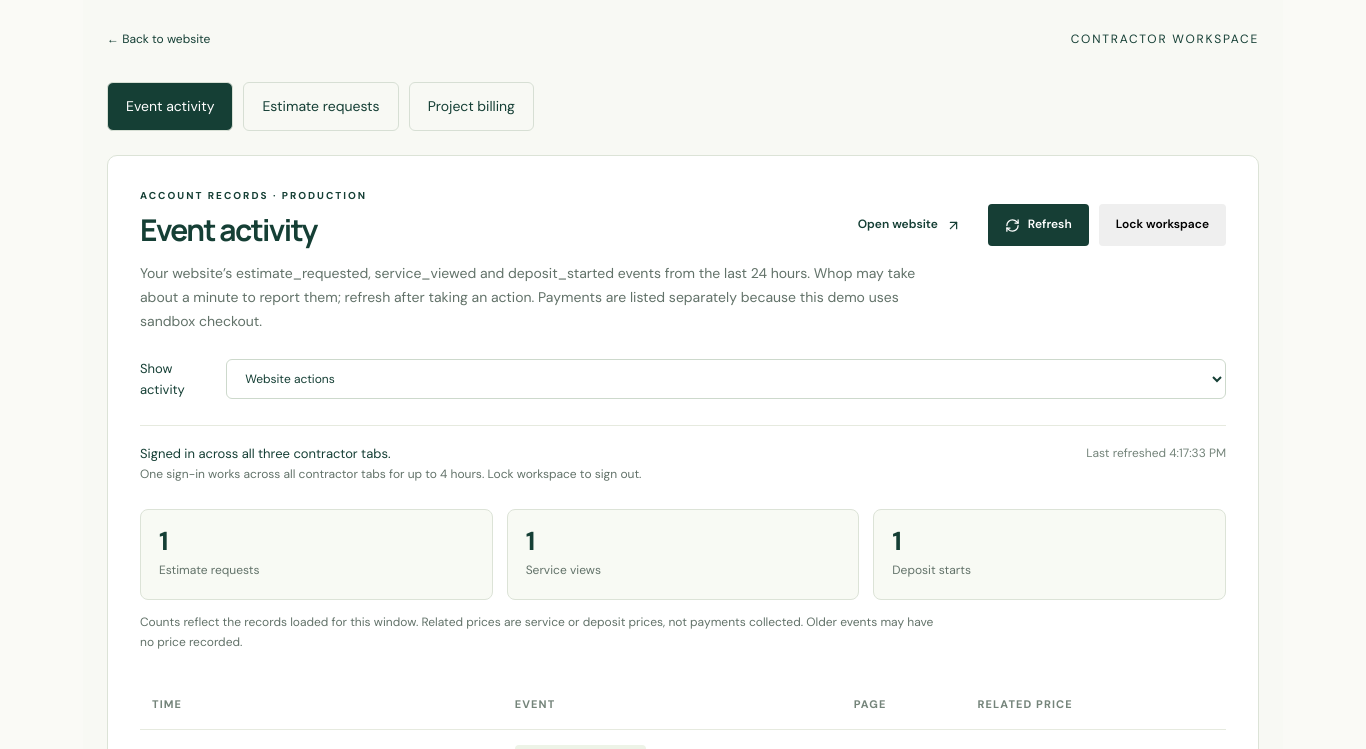
Test: website activity counts real loaded rows and distinguishes prices from revenue or missing values
Select "Payment records" in the dropdown named "Activity type": (726, 379) [226, 359, 1226, 399]
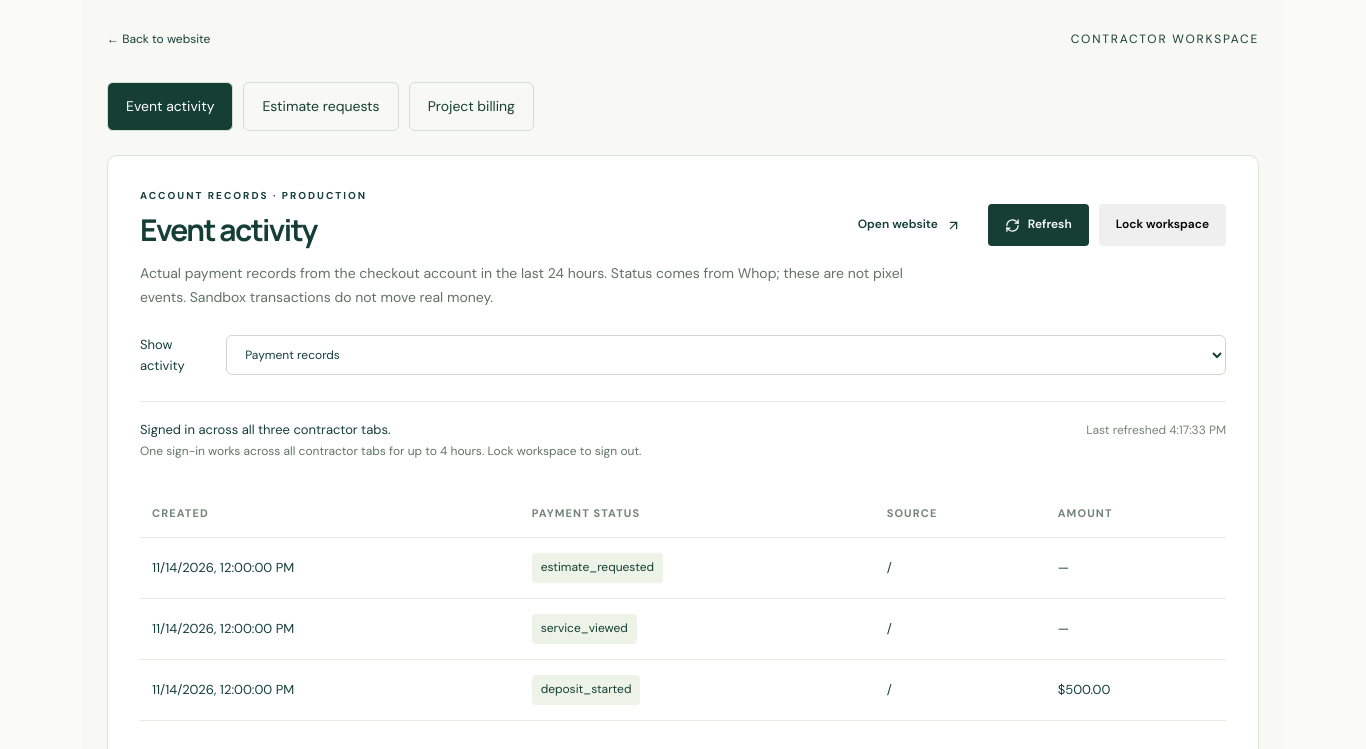
Now the element with class "contractor-metrics" is gone
